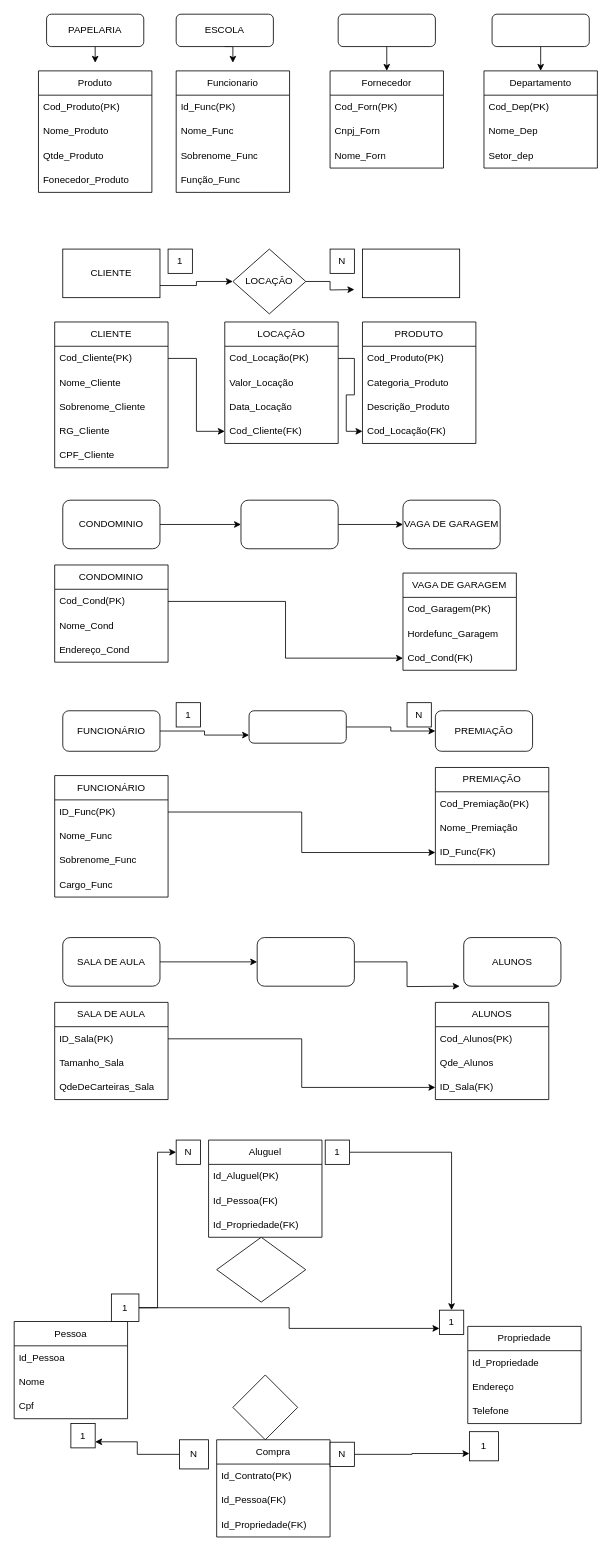
Some shapes in this 612 by 1551 pixel diagram are drawn without their labels. Here are the shapes that lost their labels. From the top down, the centre of each, then its label:
(x=386, y=30): TECIDO
(x=540, y=30): EMPRESA
(x=411, y=273): PRODUTOS
(x=289, y=524): DISPONIBILIZA
(x=297, y=726): RECEBE
(x=305, y=961): LOTAÇÃO
(x=261, y=1269): Aluga
(x=265, y=1407): Comprar
